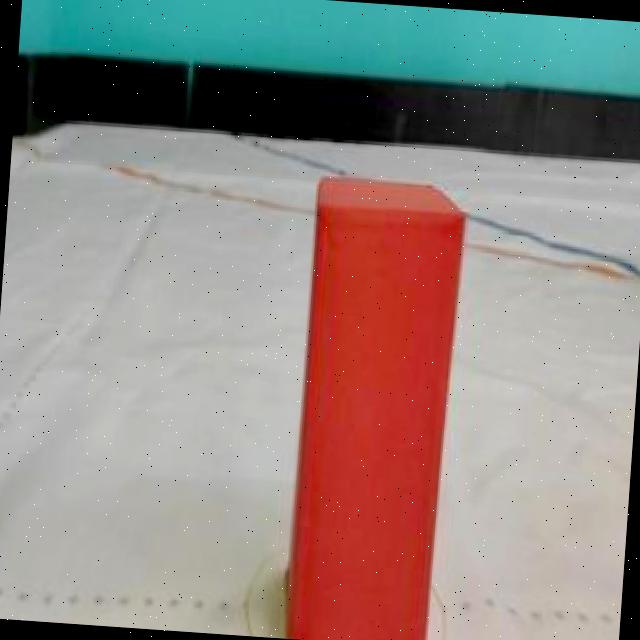redbox: (284, 174, 461, 640)
